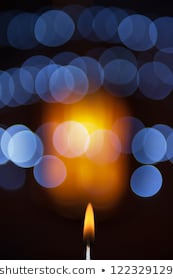Fire: (75, 195, 103, 246)
